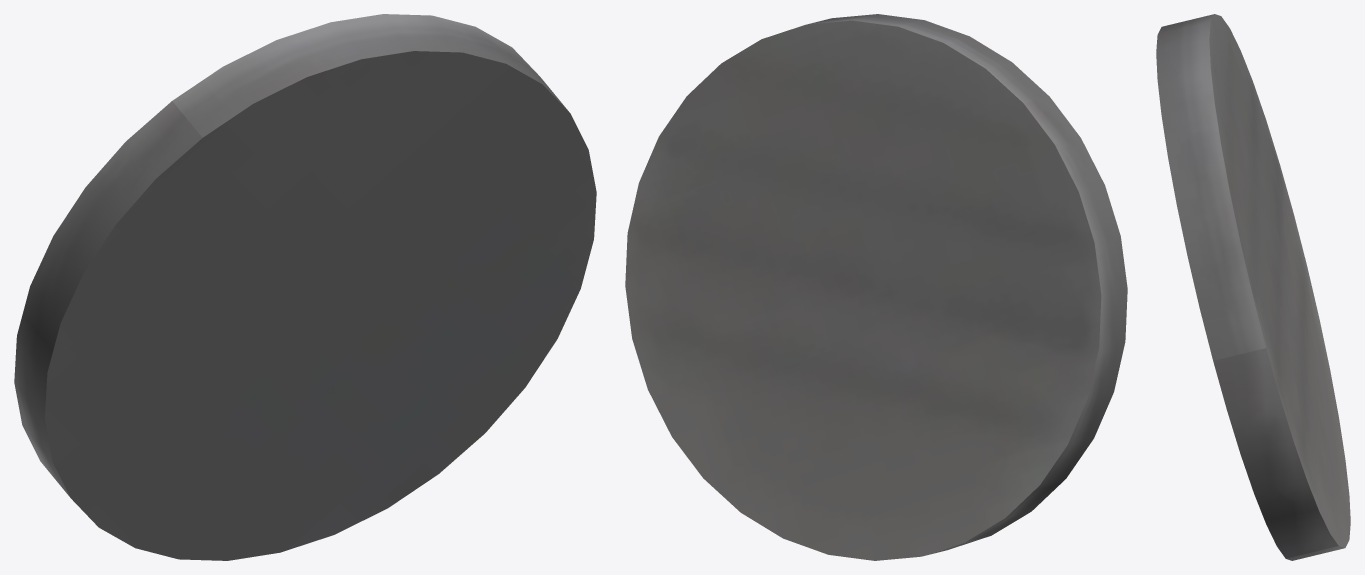
File: cabinet__action_button_guide_1_2.glb
3 views of the same model, side by side, from view 1: azimuth 30°, elevation 25°; view 2: azimuth 150°, elevation 25°; view 3: azimuth 270°, elevation 25° (orthographic). The views are drawn at different scales.
Visible parts, largest first — view 1: geometry_0; view 2: geometry_0; view 3: geometry_0.
Part boxes in pixels (x1,y1,x2,y2): geometry_0: (14, 14, 596, 560); geometry_0: (625, 14, 1127, 560); geometry_0: (1156, 14, 1350, 560).
Bounding box in the file's own units: 0.04 × 0.0397 × 0.0141.
1 material, 1 textured.
